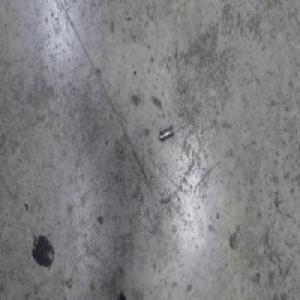Bolt: (158, 123, 174, 142)
